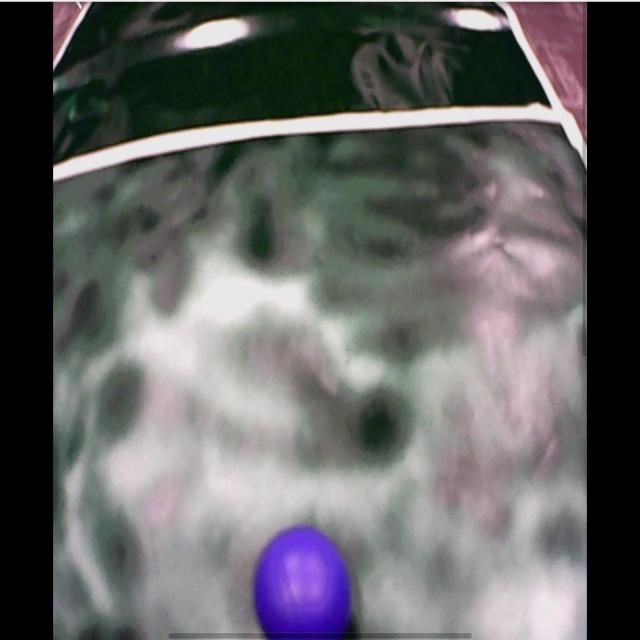ball: (255, 529, 353, 638)
